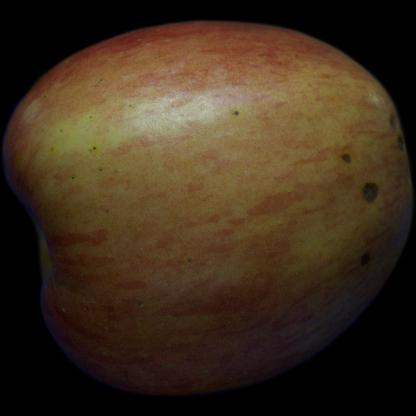defect: (326, 136, 394, 274)
